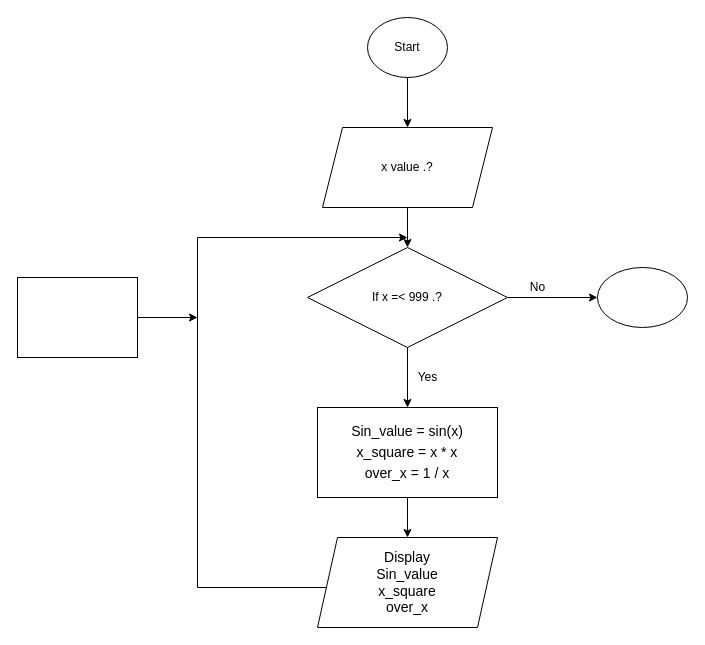
Image size: 705x645. Some labels were removed from this diagram. Here are the shapes that lost their labels. From the top down, the centre of each, then its label:
pixel 77 317: ++x
pixel 642 297: End
